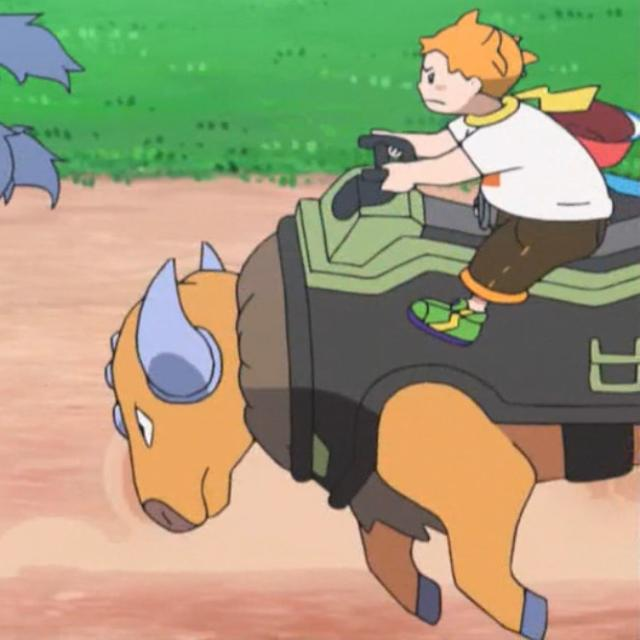Tauros: (111, 165, 640, 634)
